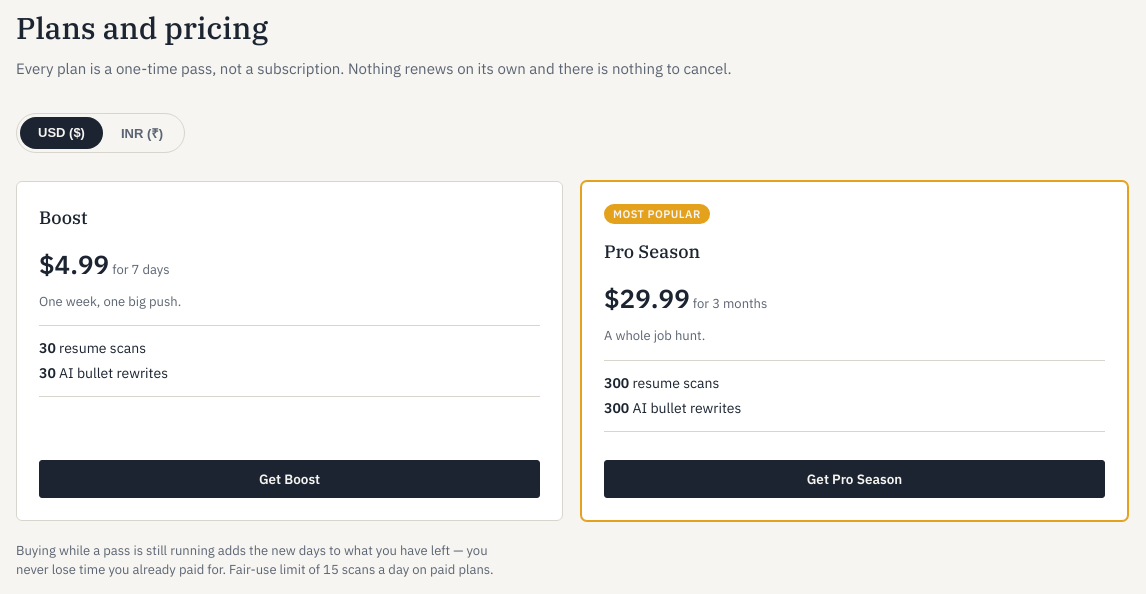
Test: PricingPage currency › shows the listed INR price, not a conversion of the USD one
Expected: the text "$4.99 for 7 days" is shown, [39,246,170,280]
Step 1. Click the button "INR (₹)" → (142, 132), box [103,116,181,148]
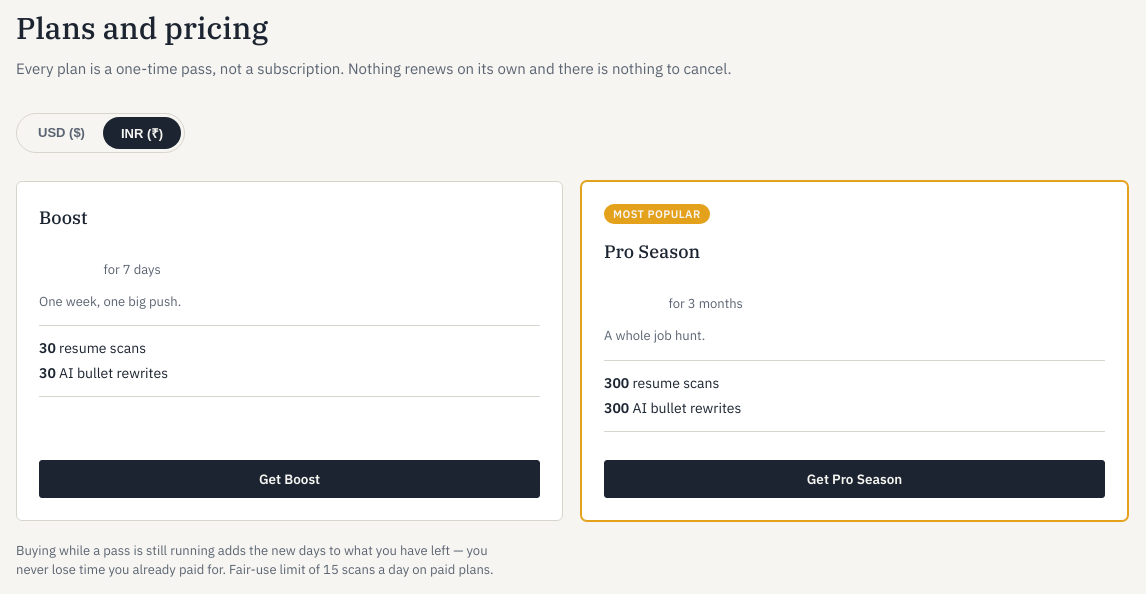
Expected: the text "₹149 for 7 days" is shown, [39,246,161,280]
Expected: the text "$4.99" is gone
